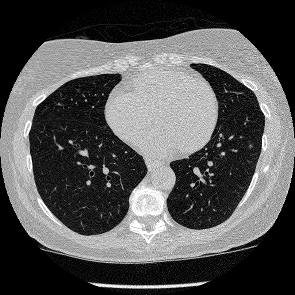nodule: (248, 144, 252, 148)
